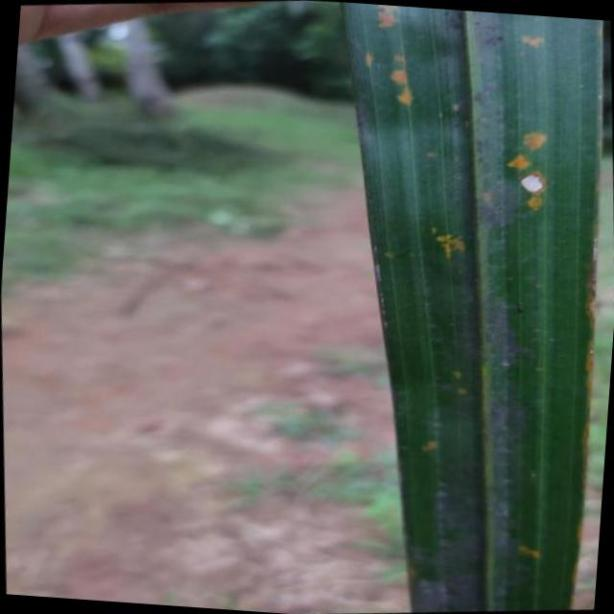Kalium: (350, 0, 604, 614)
